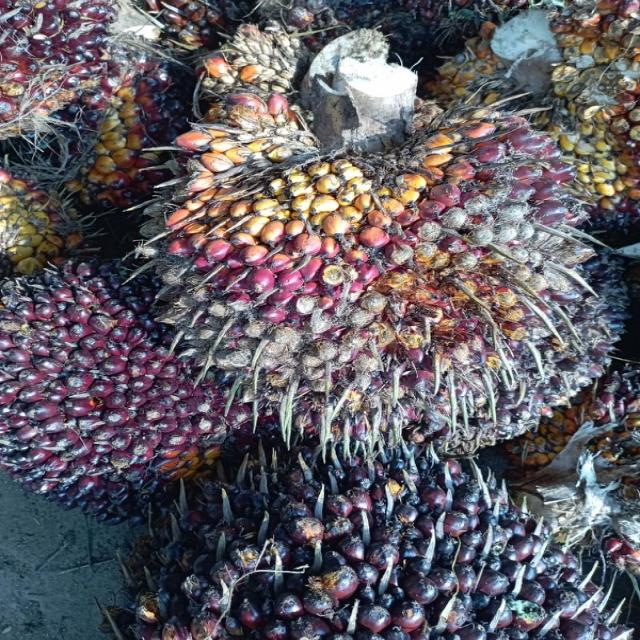fraksi 1: (113, 60, 640, 468)
